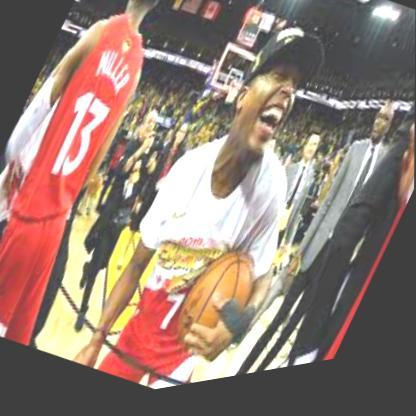basketball: (163, 241, 268, 377)
